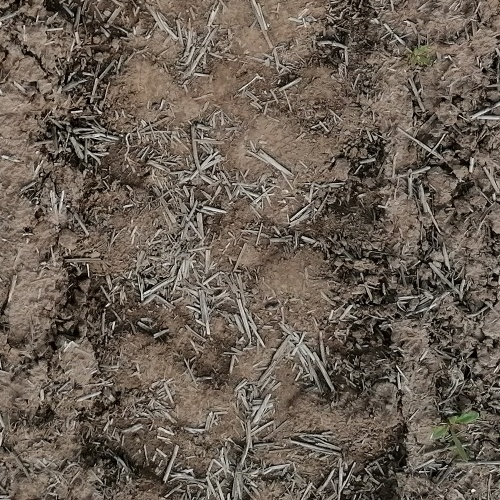beet: (434, 410, 478, 464)
